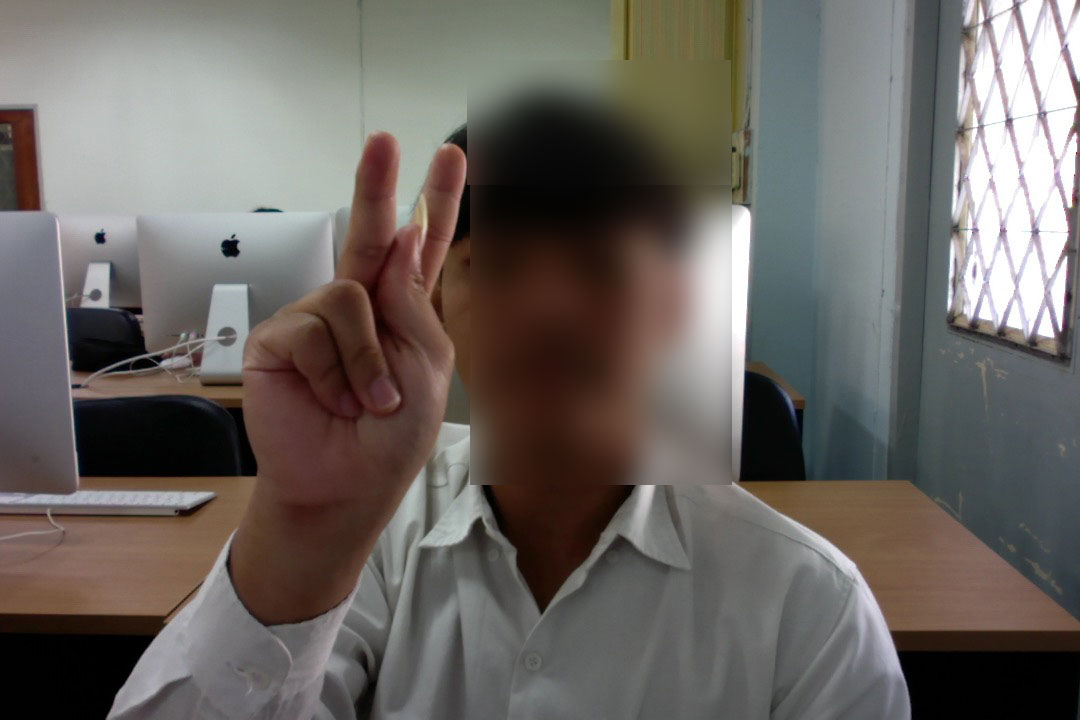ko: (212, 117, 488, 504)
